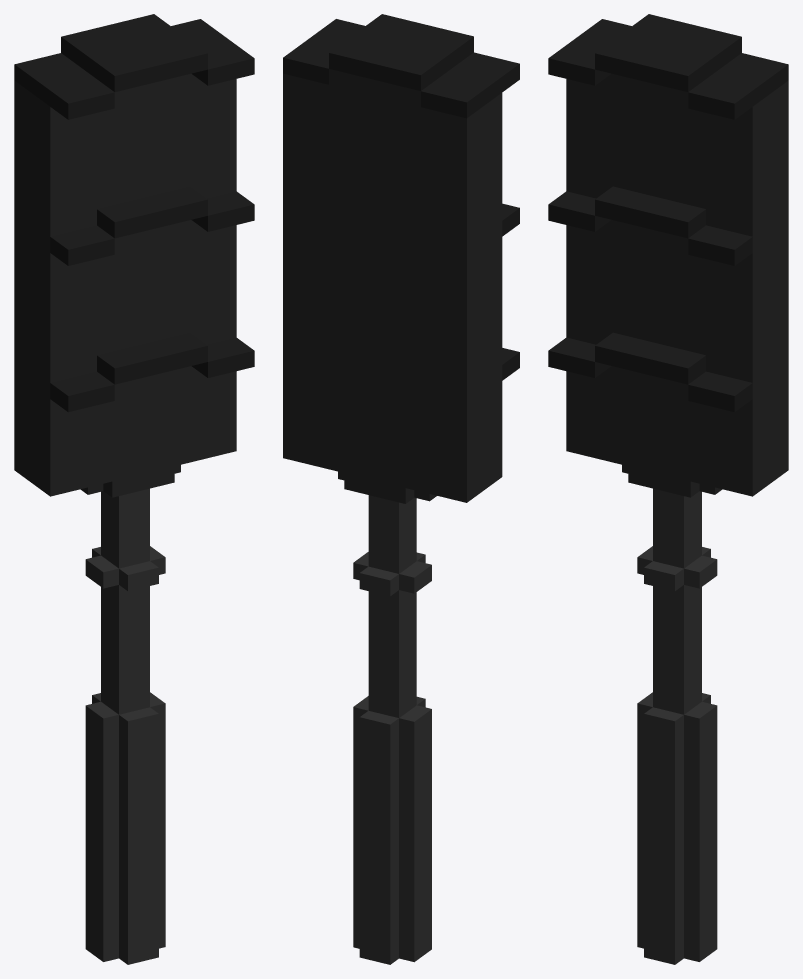
The model's file is TrafficLight.obj.
3 views of the same model, side by side, from view 1: azimuth 30°, elevation 25°; view 2: azimuth 150°, elevation 25°; view 3: azimuth 330°, elevation 25° (orthographic).
Size of the model in its own units: 1.2 by 5.6 by 0.6.
Materials: 1 (1 with a texture image).
